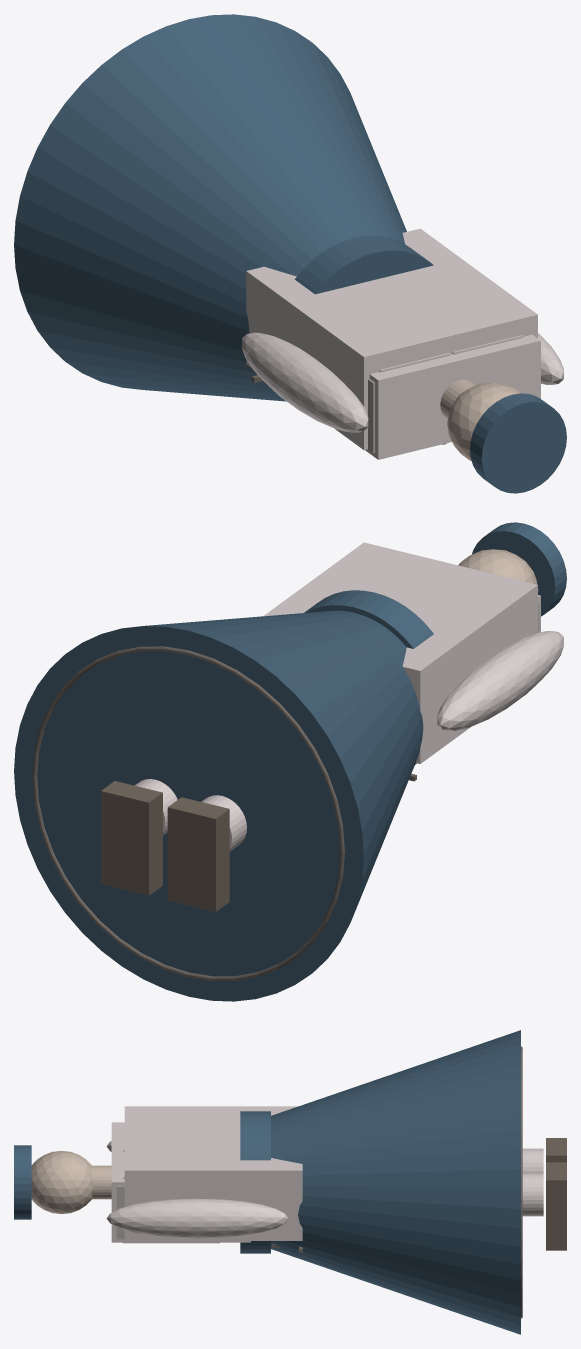
The model's file is MASTER_008_STAGE3_DETAIL.glb.
The picture shows the model from 3 angles, top to bottom: view 1: azimuth 30°, elevation 25°; view 2: azimuth 150°, elevation 25°; view 3: azimuth 270°, elevation 25°; orthographic projection. The views are drawn at different scales.
Visible parts, largest first — view 1: slot_lower_main__fund_i_gjatë, slot_outerwear__gufe, slot_upper_inner__këmishë, slot_headwear__mbulesë_koke, slot_upper_inner_sleeve_L, slot_waist__brez, mannequin_head, slot_upper_inner_sleeve_R; view 2: slot_lower_main__fund_i_gjatë, slot_outerwear__gufe, slot_footwear__opinga_L, slot_footwear__opinga_R, slot_upper_inner_sleeve_L, detail_skirt_hem, slot_headwear__mbulesë_koke, slot_waist__brez, mannequin_head, slot_legwear__çorape_L, slot_legwear__çorape_R; view 3: slot_lower_main__fund_i_gjatë, slot_outerwear__gufe, slot_upper_inner_sleeve_R, mannequin_head, slot_waist__brez, slot_footwear__opinga_R, slot_headwear__mbulesë_koke, slot_upper_inner__këmishë, slot_legwear__çorape_R, mannequin_neck, slot_legwear__çorape_L, detail_skirt_hem (+1 smaller).
Boxes of the visible parts, bbox=[...] form: slot_lower_main__fund_i_gjatë: bbox=[14, 14, 406, 401]; slot_outerwear__gufe: bbox=[246, 228, 537, 450]; slot_upper_inner__këmishë: bbox=[365, 334, 540, 459]; slot_headwear__mbulesë_koke: bbox=[470, 393, 566, 493]; slot_upper_inner_sleeve_L: bbox=[242, 332, 368, 432]; slot_waist__brez: bbox=[295, 235, 433, 294]; mannequin_head: bbox=[447, 382, 521, 460]; slot_upper_inner_sleeve_R: bbox=[538, 333, 563, 384]; slot_lower_main__fund_i_gjatë: bbox=[14, 610, 423, 1001]; slot_outerwear__gufe: bbox=[263, 542, 537, 763]; slot_footwear__opinga_L: bbox=[167, 797, 229, 911]; slot_footwear__opinga_R: bbox=[101, 781, 162, 895]; slot_upper_inner_sleeve_L: bbox=[437, 631, 563, 730]; detail_skirt_hem: bbox=[32, 646, 344, 981]; slot_headwear__mbulesë_koke: bbox=[472, 522, 566, 616]; slot_waist__brez: bbox=[304, 590, 433, 764]; mannequin_head: bbox=[458, 549, 538, 591]; slot_legwear__çorape_L: bbox=[201, 795, 246, 851]; slot_legwear__çorape_R: bbox=[134, 779, 177, 835]; slot_lower_main__fund_i_gjatë: bbox=[271, 1030, 520, 1334]; slot_outerwear__gufe: bbox=[124, 1106, 302, 1240]; slot_upper_inner_sleeve_R: bbox=[106, 1198, 288, 1238]; mannequin_head: bbox=[31, 1151, 92, 1213]; slot_waist__brez: bbox=[240, 1111, 270, 1253]; slot_footwear__opinga_R: bbox=[546, 1162, 566, 1250]; slot_headwear__mbulesë_koke: bbox=[14, 1145, 31, 1219]; slot_upper_inner__këmishë: bbox=[111, 1122, 250, 1242]; slot_legwear__çorape_R: bbox=[522, 1173, 543, 1216]; mannequin_neck: bbox=[91, 1165, 111, 1199]; slot_legwear__çorape_L: bbox=[522, 1148, 543, 1172]; detail_skirt_hem: bbox=[521, 1046, 522, 1318].
Bounding box in the file's own units: 0.9435 × 0.9435 × 1.71.
